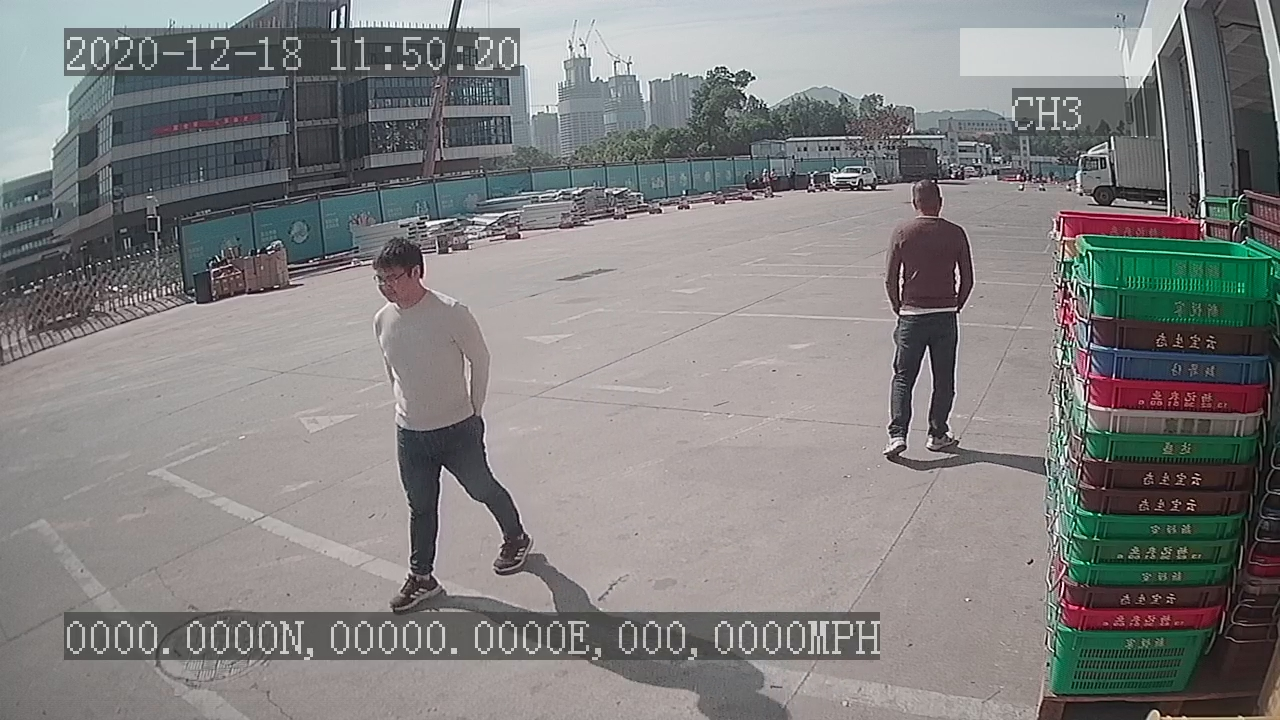person: (370, 235, 536, 610), (881, 177, 977, 461)
